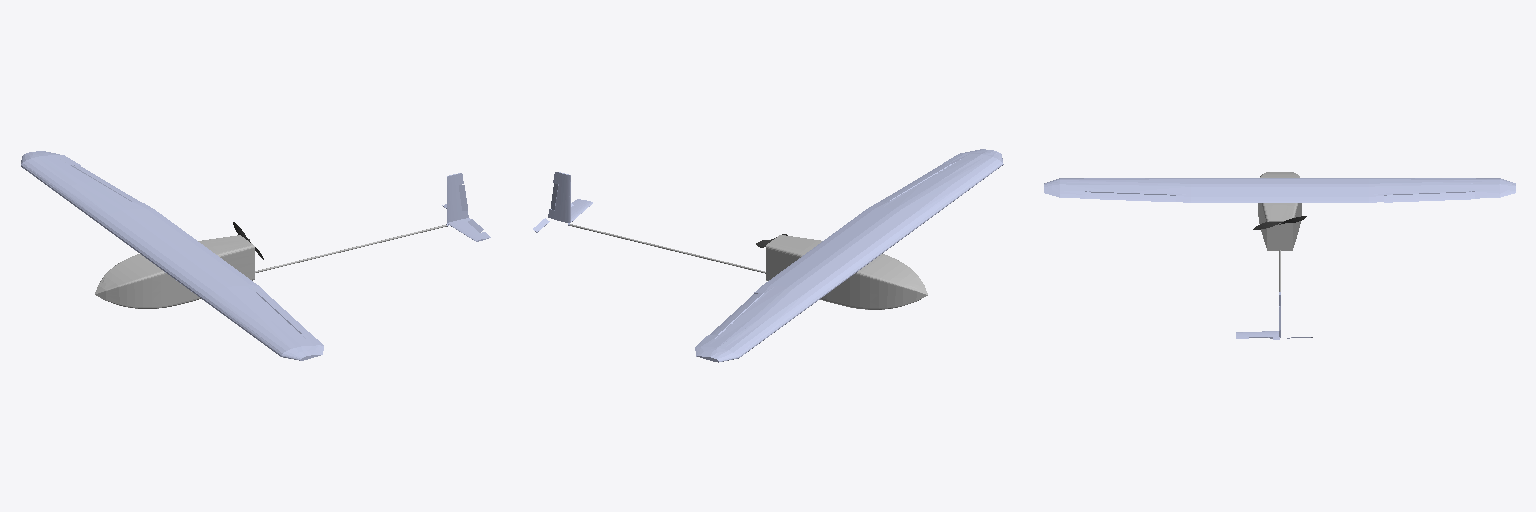
The robot description file, URDF, robot "version2urdf":
<?xml version="1.0" encoding="utf-8"?>
<!-- This URDF was automatically created by SolidWorks to URDF Exporter! Originally created by [author] ([email redacted]) 
     Commit Version: 1.5.1-0-g916b5db  Build Version: 1.5.7152.31018
     For more information, please see http://wiki.ros.org/sw_urdf_exporter -->
<robot
  name="version2urdf">

  <link
    name="fuselage">

    <inertial>
      <origin
        xyz="0.0210429966114199 -0.413441690290631 1.18877798219384"
        rpy="0 0 0" />
      <mass
        value="16.0412782715158" />
      <inertia
        ixx="0.0729086425483959"
        ixy="0.00215001857826141"
        ixz="1.70652029840901E-05"
        iyy="0.470784517247325"
        iyz="-1.60752267850691E-05"
        izz="0.463476077516123" />
    </inertial>

    <visual>
      <origin
        xyz="0 0 0"
        rpy="0 0 0" />
      <geometry>
        <mesh
          filename="package://prokura_drone/urdf/meshes/fuselage.STL" />
      </geometry>
      <material
        name="">
        <color
          rgba="0.752941176470588 0.752941176470588 0.752941176470588 1" />
      </material>
    </visual>

    <collision>
      <origin
        xyz="0 0 0"
        rpy="0 0 0" />
      <geometry>
        <mesh
          filename="package://prokura_drone/urdf/meshes/fuselage.STL" />
      </geometry>
    </collision>
    
  </link>

  <link
    name="Wing ">
    <inertial>
      <origin
        xyz="0.0958716297993096 0.00746454903532423 7.89812719308447E-05"
        rpy="0 0 0" />
      <mass
        value="11.3298064655347" />
      <inertia
        ixx="3.48939634447567"
        ixy="-0.000284425766516022"
        ixz="-2.56392954797407E-05"
        iyy="3.52146414129632"
        iyz="1.21805435088431E-05"
        izz="0.033843686629132" />
    </inertial>
    <visual>
      <origin
        xyz="0 0 0"
        rpy="0 0 0" />
      <geometry>
        <mesh
          filename="package://prokura_drone/urdf/meshes/Wing .STL" />
      </geometry>
      <material
        name="">
        <color
          rgba="0.792156862745098 0.819607843137255 0.933333333333333 1" />
      </material>
    </visual>
    <collision>
      <origin
        xyz="0 0 0"
        rpy="0 0 0" />
      <geometry>
        <mesh
          filename="package://prokura_drone/urdf/meshes/Wing .STL" />
      </geometry>
    </collision>
  </link>
  <joint
    name="Fuselage-Wing P"
    type="fixed">
    <origin
      xyz="-0.10252 -1.1888 -0.32825"
      rpy="1.5708 0 0" />
    <parent
      link="fuselage" />
    <child
      link="Wing " />
    <axis
      xyz="0 0 0" />
  </joint>
  <link
    name="Aileron P">
    <inertial>
      <origin
        xyz="-0.0046635 -0.0023363 0.20211"
        rpy="0 0 0" />
      <mass
        value="0.15635" />
      <inertia
        ixx="0.0022229"
        ixy="2.0644E-06"
        ixz="0.00020373"
        iyy="0.0022596"
        iyz="5.7834E-07"
        izz="4.0105E-05" />
    </inertial>
    <visual>
      <origin
        xyz="0 0 0"
        rpy="0 0 0" />
      <geometry>
        <mesh
          filename="package://prokura_drone/urdf/meshes/Aileron P.STL" />
      </geometry>
      <material
        name="">
        <color
          rgba="0.79216 0.81961 0.93333 1" />
      </material>
    </visual>
    <collision>
      <origin
        xyz="0 0 0"
        rpy="0 0 0" />
      <geometry>
        <mesh
          filename="package://prokura_drone/urdf/meshes/Aileron P.STL" />
      </geometry>
    </collision>
  </link>
  <joint
    name="wing-aileron P"
    type="continuous">
    <origin
      xyz="0.19926 0.0059198 0.47877"
      rpy="0.002711 7.7252E-05 -0.029585" />
    <parent
      link="Wing " />
    <child
      link="Aileron P" />
    <axis
      xyz="0.091284 0.0012502 -0.99582" />
  </joint>
  <link
    name="Aileron S">
    <inertial>
      <origin
        xyz="-0.00612955950418764 -0.0022764270168687 -0.210251376655586"
        rpy="0 0 0" />
      <mass
        value="0.163490345468681" />
      <inertia
        ixx="0.00232643285155238"
        ixy="2.25432962694595E-06"
        ixz="-0.000213225598541998"
        iyy="0.00236580176769708"
        iyz="-7.88699407058446E-07"
        izz="4.30310004601844E-05" />
    </inertial>
    <visual>
      <origin
        xyz="0 0 0"
        rpy="0 0 0" />
      <geometry>
        <mesh
          filename="package://prokura_drone/urdf/meshes/Aileron S.STL" />
      </geometry>
      <material
        name="">
        <color
          rgba="0.792156862745098 0.819607843137255 0.933333333333333 1" />
      </material>
    </visual>
    <collision>
      <origin
        xyz="0 0 0"
        rpy="0 0 0" />
      <geometry>
        <mesh
          filename="package://prokura_drone/urdf/meshes/Aileron S.STL" />
      </geometry>
    </collision>
  </link>
  <joint
    name="Wing-Aileron S"
    type="continuous">
    <origin
      xyz="0.2 0.0059299 -0.47074"
      rpy="-0.0074614 -0.00040676 -0.081532" />
    <parent
      link="Wing " />
    <child
      link="Aileron S" />
    <axis
      xyz="0.091284 0.0012502 0.99582" />
  </joint>
  <link
    name="Propeller">
    <inertial>
      <origin
        xyz="6.42479658363726E-09 -0.00489942502056701 -1.39357012596264E-08"
        rpy="0 0 0" />
      <mass
        value="0.00658310638060369" />
      <inertia
        ixx="2.90735942896968E-05"
        ixy="1.1192699993908E-13"
        ixz="4.2247445825119E-06"
        iyy="2.98824172594468E-05"
        iyz="-1.37702543604631E-13"
        izz="8.58411507486578E-07" />
    </inertial>
    <visual>
      <origin
        xyz="0 0 0"
        rpy="0 0 0" />
      <geometry>
        <mesh
          filename="package://prokura_drone/urdf/meshes/Propeller.STL" />
      </geometry>
      <material
        name="">
        <color
          rgba="0.294117647058824 0.294117647058824 0.294117647058824 1" />
      </material>
    </visual>
    <collision>
      <origin
        xyz="0 0 0"
        rpy="0 0 0" />
      <geometry>
        <mesh
          filename="package://prokura_drone/urdf/meshes/Propeller.STL" />
      </geometry>
    </collision>
  </link>
  <joint
    name="Motor-Propeller"
    type="continuous">
    <origin
      xyz="0.32694 -1.1888 -0.34325"
      rpy="0 1.5232 1.5708" />
    <parent
      link="fuselage" />
    <child
      link="Propeller" />
    <axis
      xyz="0 1 0" />
  </joint>
  <link
    name="horizontal tail P">
    <inertial>
      <origin
        xyz="0.0403725654202214 -3.06671904522493E-05 0.0881398556359723"
        rpy="0 0 0" />
      <mass
        value="0.0843629184901459" />
      <inertia
        ixx="0.00028531511037047"
        ixy="-5.97252665847109E-11"
        ixz="-4.26398654424599E-06"
        iyy="0.000314394848144028"
        iyz="-5.10729732704101E-09"
        izz="2.97152974724594E-05" />
    </inertial>
    <visual>
      <origin
        xyz="0 0 0"
        rpy="0 0 0" />
      <geometry>
        <mesh
          filename="package://prokura_drone/urdf/meshes/horizontal tail P.STL" />
      </geometry>
      <material
        name="">
        <color
          rgba="0.792156862745098 0.819607843137255 0.933333333333333 1" />
      </material>
    </visual>
    <collision>
      <origin
        xyz="0 0 0"
        rpy="0 0 0" />
      <geometry>
        <mesh
          filename="package://prokura_drone/urdf/meshes/horizontal tail P.STL" />
      </geometry>
    </collision>
  </link>
  <joint
    name="fuselage-tail1"
    type="fixed">
    <origin
      xyz="1.21747576601264 -1.18877912543032 -0.475252539736524"
      rpy="1.5707963267949 0 0" />
    <parent
      link="fuselage" />
    <child
      link="horizontal tail P" />
    <axis
      xyz="0 0 0" />
  </joint>
  <link
    name="elevator P">
    <inertial>
      <origin
        xyz="0.00234761120665472 -9.12172850009441E-05 0.0544028579618872"
        rpy="0 0 0" />
      <mass
        value="0.00603232335815787" />
      <inertia
        ixx="6.02627230941831E-06"
        ixy="7.6790303150399E-11"
        ixz="4.5075326403622E-07"
        iyy="6.24243643318641E-06"
        iyz="2.69515766551106E-10"
        izz="2.25907857842816E-07" />
    </inertial>
    <visual>
      <origin
        xyz="0 0 0"
        rpy="0 0 0" />
      <geometry>
        <mesh
          filename="package://prokura_drone/urdf/meshes/elevator P.STL" />
      </geometry>
      <material
        name="">
        <color
          rgba="0.792156862745098 0.819607843137255 0.933333333333333 1" />
      </material>
    </visual>
    <collision>
      <origin
        xyz="0 0 0"
        rpy="0 0 0" />
      <geometry>
        <mesh
          filename="package://prokura_drone/urdf/meshes/elevator P.STL" />
      </geometry>
    </collision>
  </link>
  <joint
    name="tail-elevator"
    type="continuous">
    <origin
      xyz="0.076009 9.332E-05 0.032701"
      rpy="-0.038247 0.0099791 0.53317" />
    <parent
      link="horizontal tail P" />
    <child
      link="elevator P" />
    <axis
      xyz="0.07479 0.00085211 -0.9972" />
  </joint>
  <link
    name="horizontal tail S">
    <inertial>
      <origin
        xyz="0.0403725654202214 -3.06671904522493E-05 0.0881398556359723"
        rpy="0 0 0" />
      <mass
        value="0.0843629184901459" />
      <inertia
        ixx="0.00028531511037047"
        ixy="-5.97252665847109E-11"
        ixz="-4.26398654424599E-06"
        iyy="0.000314394848144028"
        iyz="-5.10729732704101E-09"
        izz="2.97152974724594E-05" />
    </inertial>
    <visual>
      <origin
        xyz="0 0 0"
        rpy="0 0 0" />
      <geometry>
        <mesh
          filename="package://prokura_drone/urdf/meshes/horizontal tail S.STL" />
      </geometry>
      <material
        name="">
        <color
          rgba="0.792156862745098 0.819607843137255 0.933333333333333 1" />
      </material>
    </visual>
    <collision>
      <origin
        xyz="0 0 0"
        rpy="0 0 0" />
      <geometry>
        <mesh
          filename="package://prokura_drone/urdf/meshes/horizontal tail S.STL" />
      </geometry>
    </collision>
  </link>
  <joint
    name="fuselage-tail 2"
    type="fixed">
    <origin
      xyz="1.21747576601264 -1.18877912543032 -0.475252539736524"
      rpy="1.5707963267949 0 0" />
    <parent
      link="fuselage" />
    <child
      link="horizontal tail S" />
    <axis
      xyz="0 0 0" />
  </joint>
  <link
    name="elevator S">
    <inertial>
      <origin
        xyz="0.0783560089888266 2.3233495642927E-06 -0.0871078697296799"
        rpy="0 0 0" />
      <mass
        value="0.00603287790059608" />
      <inertia
        ixx="6.02721364922289E-06"
        ixy="6.48970779837988E-11"
        ixz="-4.50895135275178E-07"
        iyy="6.24339421771599E-06"
        iyz="-2.86615263044703E-10"
        izz="2.25930866355363E-07" />
    </inertial>
    <visual>
      <origin
        xyz="0 0 0"
        rpy="0 0 0" />
      <geometry>
        <mesh
          filename="package://prokura_drone/urdf/meshes/elevator S.STL" />
      </geometry>
      <material
        name="">
        <color
          rgba="0.792156862745098 0.819607843137255 0.933333333333333 1" />
      </material>
    </visual>
    <collision>
      <origin
        xyz="0 0 0"
        rpy="0 0 0" />
      <geometry>
        <mesh
          filename="package://prokura_drone/urdf/meshes/elevator S.STL" />
      </geometry>
    </collision>
  </link>
  <joint
    name="tail-elevator2"
    type="fixed">
    <origin
      xyz="0.010955 -0.03986 -0.0007876"
      rpy="0.038247 -0.0099791 0.53317" />
    <parent
      link="horizontal tail S" />
    <child
      link="elevator S" />
    <axis
      xyz="0 0 0" />
  </joint>
  <link
    name="vertical tail">
    <inertial>
      <origin
        xyz="0.0334677356343707 -3.55691510245393E-07 0.0878816037620191"
        rpy="0 0 0" />
      <mass
        value="0.0828202588143957" />
      <inertia
        ixx="0.000283298485616193"
        ixy="3.25082379772713E-10"
        ixz="1.850630158288E-05"
        iyy="0.000312634665836634"
        iyz="-5.10950873916448E-09"
        izz="2.99617954074207E-05" />
    </inertial>
    <visual>
      <origin
        xyz="0 0 0"
        rpy="0 0 0" />
      <geometry>
        <mesh
          filename="package://prokura_drone/urdf/meshes/vertical tail.STL" />
      </geometry>
      <material
        name="">
        <color
          rgba="0.792156862745098 0.819607843137255 0.933333333333333 1" />
      </material>
    </visual>
    <collision>
      <origin
        xyz="0 0 0"
        rpy="0 0 0" />
      <geometry>
        <mesh
          filename="package://prokura_drone/urdf/meshes/vertical tail.STL" />
      </geometry>
    </collision>
  </link>
  <joint
    name="tail-fin"
    type="fixed">
    <origin
      xyz="0 0 0"
      rpy="-1.5707963267949 0 0" />
    <parent
      link="horizontal tail S" />
    <child
      link="vertical tail" />
    <axis
      xyz="0 0 0" />
  </joint>
  <link
    name="rudder">
    <inertial>
      <origin
        xyz="-0.000895070124801833 -0.000118693956365989 0.0541643422871266"
        rpy="0 0 0" />
      <mass
        value="0.00724546449934962" />
      <inertia
        ixx="7.79732855060078E-06"
        ixy="4.30663664615489E-11"
        ixz="1.16677299782296E-06"
        iyy="8.23030722105776E-06"
        iyz="-7.92802826855665E-11"
        izz="4.46547815815756E-07" />
    </inertial>
    <visual>
      <origin
        xyz="0 0 0"
        rpy="0 0 0" />
      <geometry>
        <mesh
          filename="package://prokura_drone/urdf/meshes/rudder.STL" />
      </geometry>
      <material
        name="">
        <color
          rgba="0.792156862745098 0.819607843137255 0.933333333333333 1" />
      </material>
    </visual>
    <collision>
      <origin
        xyz="0 0 0"
        rpy="0 0 0" />
      <geometry>
        <mesh
          filename="package://prokura_drone/urdf/meshes/rudder.STL" />
      </geometry>
    </collision>
  </link>
  <joint
    name="fin-rudder"
    type="continuous">
    <origin
      xyz="0.070512 0 0.039324"
      rpy="0.040448 0.0058598 -0.2877" />
    <parent
      link="vertical tail" />
    <child
      link="rudder" />
    <axis
      xyz="0.14834 0.0010737 -0.98894" />
  </joint>
</robot>

--- What the picture shows (computed from the rendered views, not written in the file) ---
The picture shows the robot from 3 angles, left to right: view 1: azimuth 30°, elevation 25°; view 2: azimuth 150°, elevation 25°; view 3: azimuth 270°, elevation 25°; orthographic projection.
Model version2urdf with 11 links and 10 joints (5 continuous, 5 fixed), rooted at fuselage, posed all joints at 0.
Visible links, largest first — view 1: Wing, fuselage, vertical tail; view 2: Wing, fuselage, vertical tail; view 3: Wing, fuselage, Aileron S, Aileron P.
Boxes of the visible links, left/top/right/bottom form: Wing: left=21, top=151, right=323, bottom=360; fuselage: left=95, top=225, right=446, bottom=308; vertical tail: left=447, top=173, right=468, bottom=222; Wing: left=695, top=149, right=1003, bottom=362; fuselage: left=570, top=224, right=927, bottom=309; vertical tail: left=548, top=172, right=570, bottom=222; Wing: left=1044, top=178, right=1515, bottom=202; fuselage: left=1258, top=172, right=1301, bottom=291; Aileron S: left=1384, top=192, right=1474, bottom=202; Aileron P: left=1085, top=192, right=1175, bottom=201.
Size in the robot's own frame: 1.67 by 2.15 by 0.2239 metres.
10 mesh visuals loaded from 11 distinct referenced files (10 binary STL); not drawn: 1 (reference not matched to a file when rendering).
